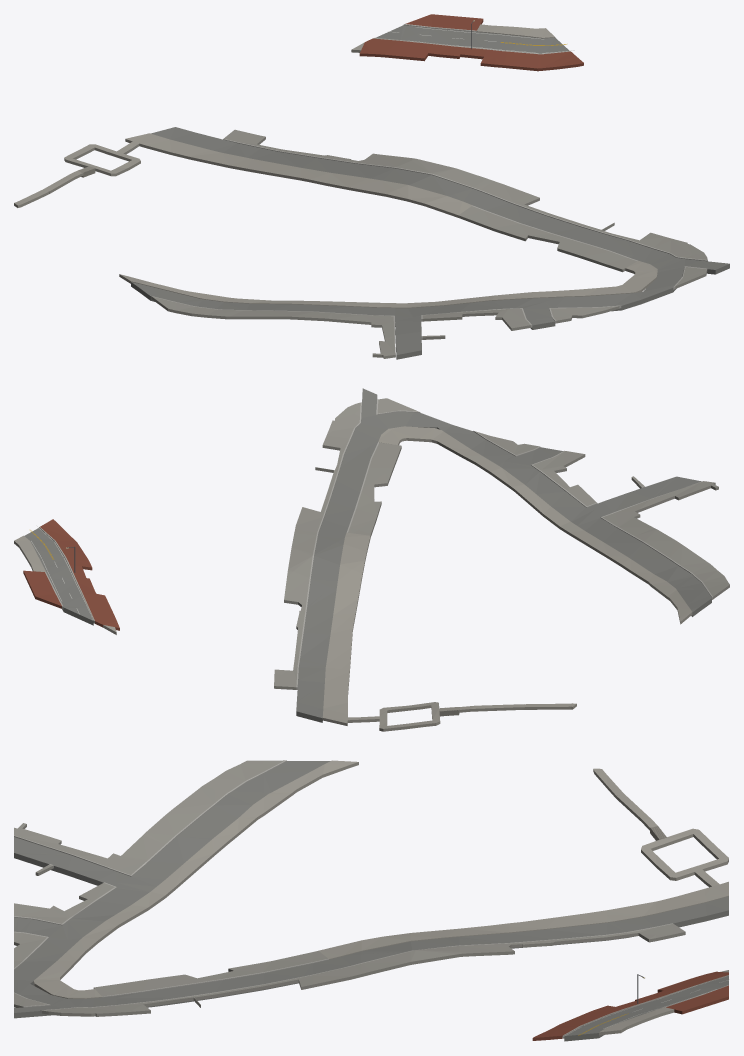
File: 18-218891-118954.a0dec111.glb
3 renders of one model, top to bottom at view 1: azimuth 30°, elevation 25°; view 2: azimuth 150°, elevation 25°; view 3: azimuth 270°, elevation 25°, orthographic. The views are drawn at different scales.
Bounding box in the file's own units: 148 × 19.68 × 146.
